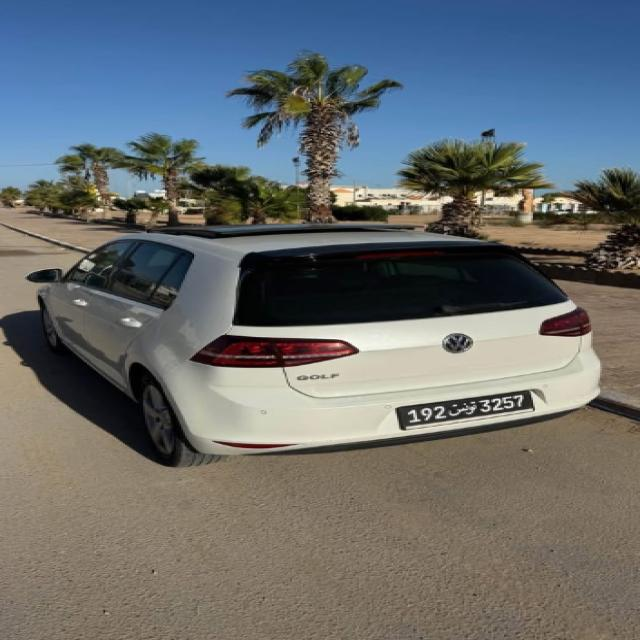licence plate: (401, 392, 528, 425)
